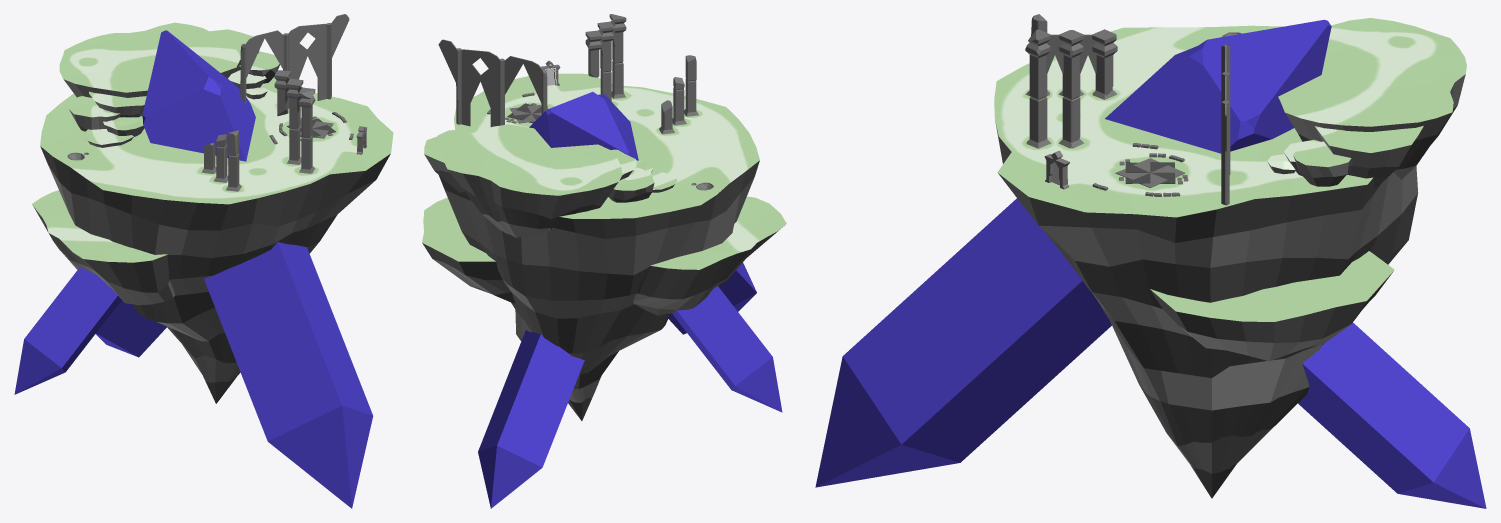
File: island1 1.fbx
3 renders of one model, left to right at view 1: azimuth 30°, elevation 25°; view 2: azimuth 150°, elevation 25°; view 3: azimuth 270°, elevation 25°, orthographic. The views are drawn at different scales.
Parts seen in each view (by area): view 1: crystals, grass_road, rocks, fachada_ilha1, coluna_ilha1_2, coluna_ilha1_1; view 2: rocks, grass_road, crystals, fachada_ilha1, coluna_ilha1_2, coluna_ilha1_1, flower; view 3: crystals, rocks, grass_road, coluna_ilha1_2, fachada_ilha1, flower.
Part boxes in pixels (bbox=[...]): crystals: bbox=[14, 30, 373, 508]; grass_road: bbox=[32, 22, 393, 262]; rocks: bbox=[33, 51, 390, 403]; fachada_ilha1: bbox=[240, 14, 349, 108]; coluna_ilha1_2: bbox=[274, 70, 315, 173]; coluna_ilha1_1: bbox=[201, 130, 241, 191]; rocks: bbox=[422, 154, 782, 420]; grass_road: bbox=[422, 73, 786, 269]; crystals: bbox=[478, 91, 782, 508]; fachada_ilha1: bbox=[438, 39, 547, 126]; coluna_ilha1_2: bbox=[585, 14, 626, 101]; coluna_ilha1_1: bbox=[659, 55, 698, 134]; flower: bbox=[507, 103, 548, 123]; crystals: bbox=[815, 19, 1486, 508]; rocks: bbox=[995, 74, 1465, 498]; grass_road: bbox=[994, 18, 1466, 321]; coluna_ilha1_2: bbox=[1025, 29, 1117, 148]; fachada_ilha1: bbox=[1221, 44, 1230, 205]; flower: bbox=[1115, 158, 1185, 187].
Size of what is drawn, in the model's own units: 6496 by 6674 by 8128.
